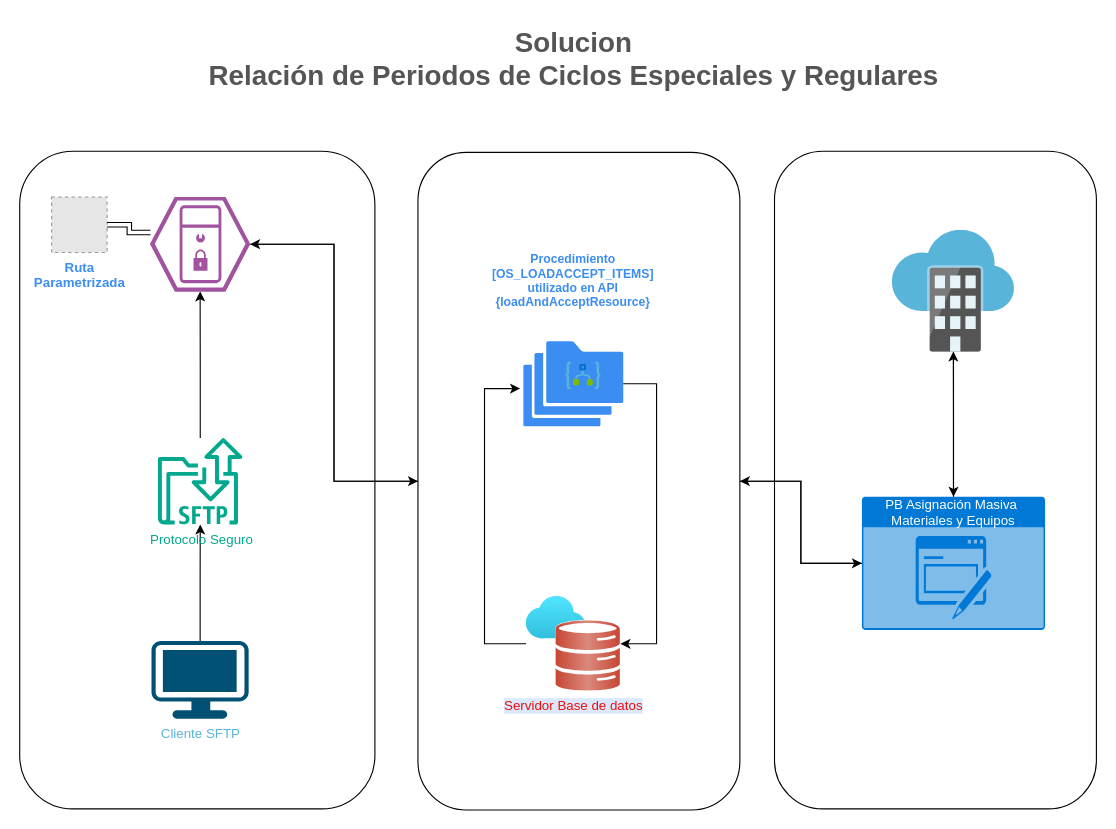
The diagram is 1116 pixels wide and 829 high, and some of its shapes have lost their labels. Grey dashed boxes stand in for pictures. Each missing label, with the box of its shape:
OSF v8.0 CEO: (892, 230, 1014, 352)
SFTP SmartFlex v8.0: (149, 196, 250, 291)
